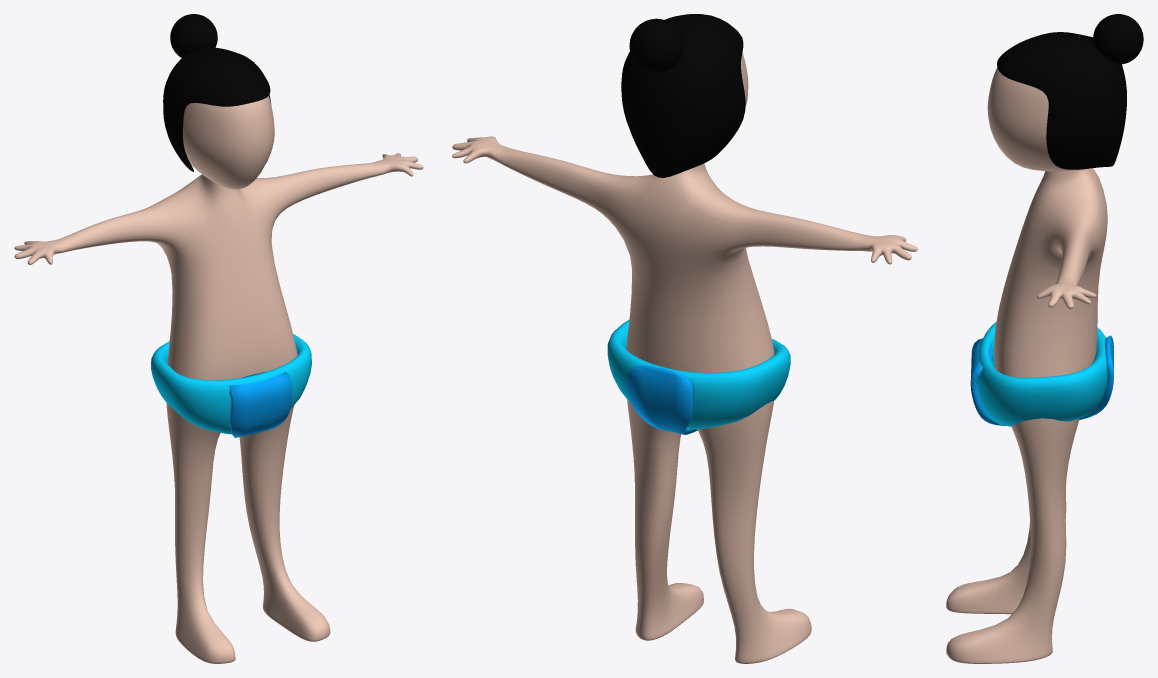
File: dfsf.fbx
3 renders of one model, left to right at view 1: azimuth 30°, elevation 25°; view 2: azimuth 150°, elevation 25°; view 3: azimuth 270°, elevation 25°, orthographic. The views are drawn at different scales.
Parts seen in each view (by area): view 1: Sphere.001; view 2: Sphere.001; view 3: Sphere.001.
Boxes of the visible parts, <box> form: Sphere.001: <box>14,14,423,663</box>; Sphere.001: <box>452,14,917,663</box>; Sphere.001: <box>946,14,1143,663</box>.
Bounding box in the file's own units: 178 × 244 × 71.13.
